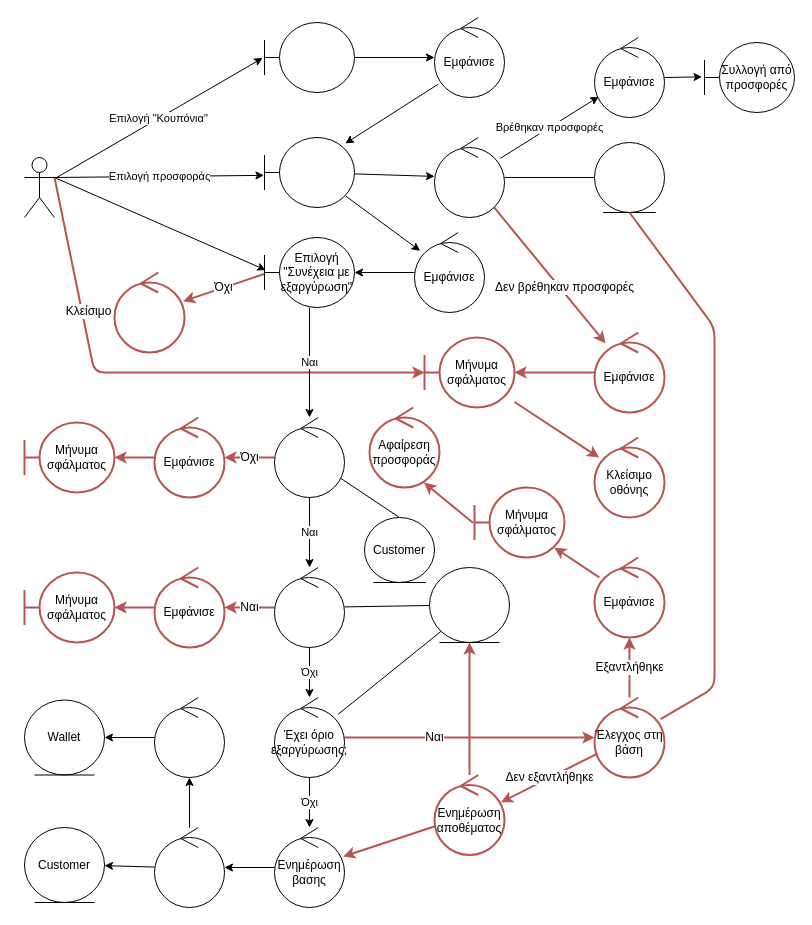
Some shapes in this 812 by 925 pixel diagram are drawn without their labels. Here are the shapes that lost their labels. From the top down, the centre of each, then its label:
At pixel 309 57: "Αρχική Οθόνη".
At pixel 39 187: "Πελάτης".
At pixel 309 172: "Οθόνη Προσφορών".
At pixel 469 177: "Ανάκτηση Προσφορών".
At pixel 629 177: "Βάση Δεδομένων".
At pixel 149 312: "Κλείσιμο μηνύματος".
At pixel 309 457: "Επαρκείς πόντοι;".
At pixel 309 607: "Έχει λήξει η προσφορά;".
At pixel 469 604: "Coupon".
At pixel 189 737: "Προσθήκη χρημάτων".
At pixel 189 867: "Αφαίρεση πόντων".
